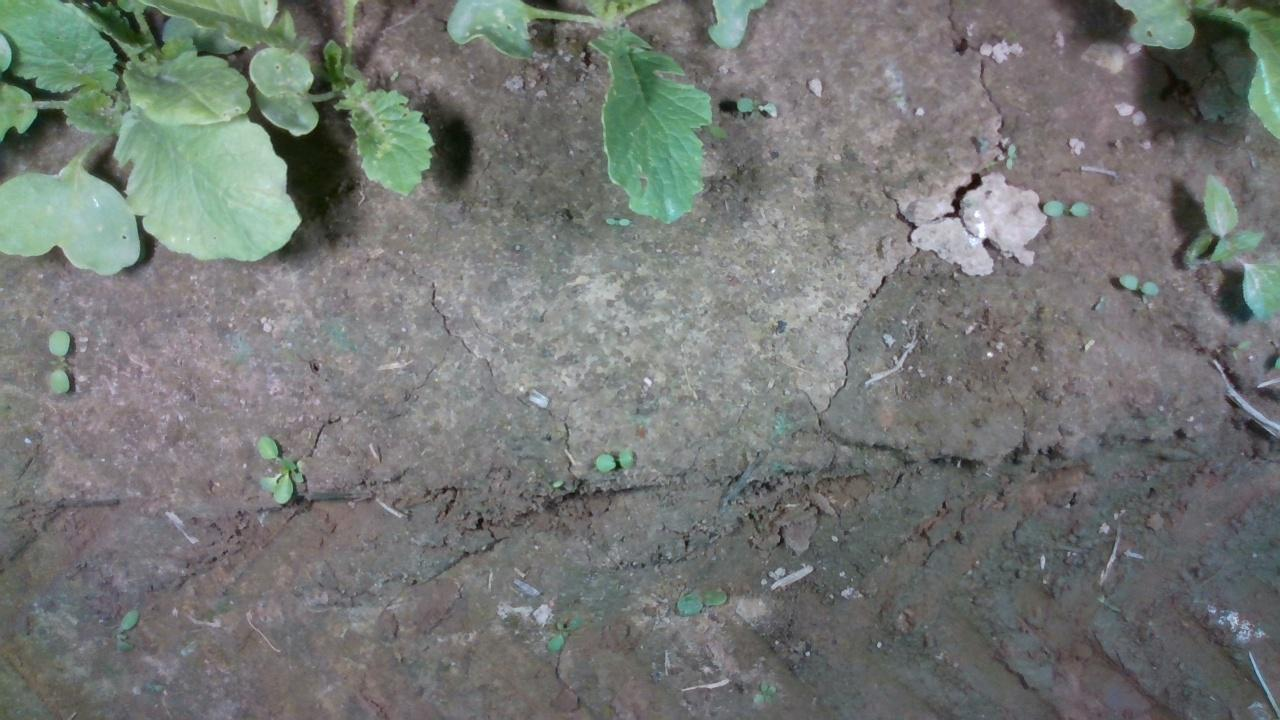weed: (44, 328, 70, 397), (113, 607, 139, 653), (593, 445, 635, 473), (1038, 198, 1093, 217), (1003, 140, 1016, 172)
